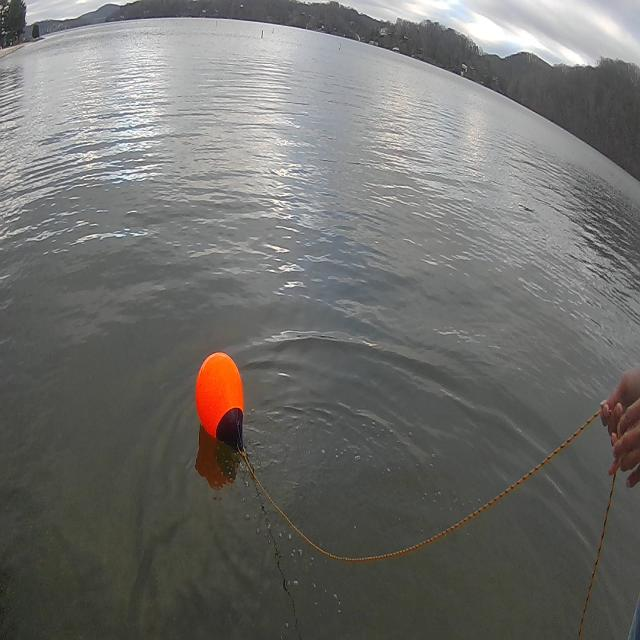Buoy: (187, 342, 257, 466)
